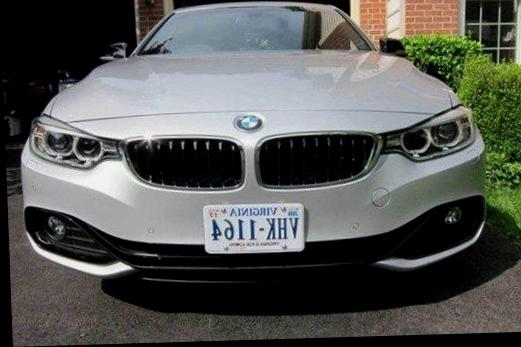License_Plate: (203, 201, 308, 253)
